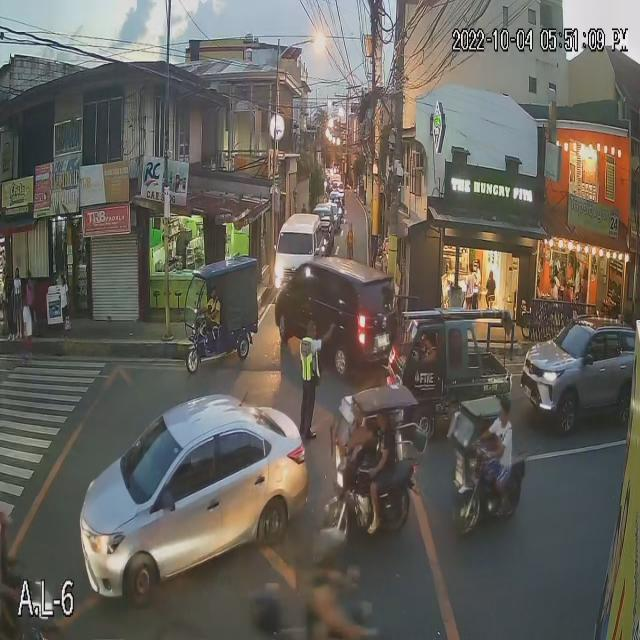helmet: (315, 528, 350, 576)
rider: (307, 576, 368, 640)
